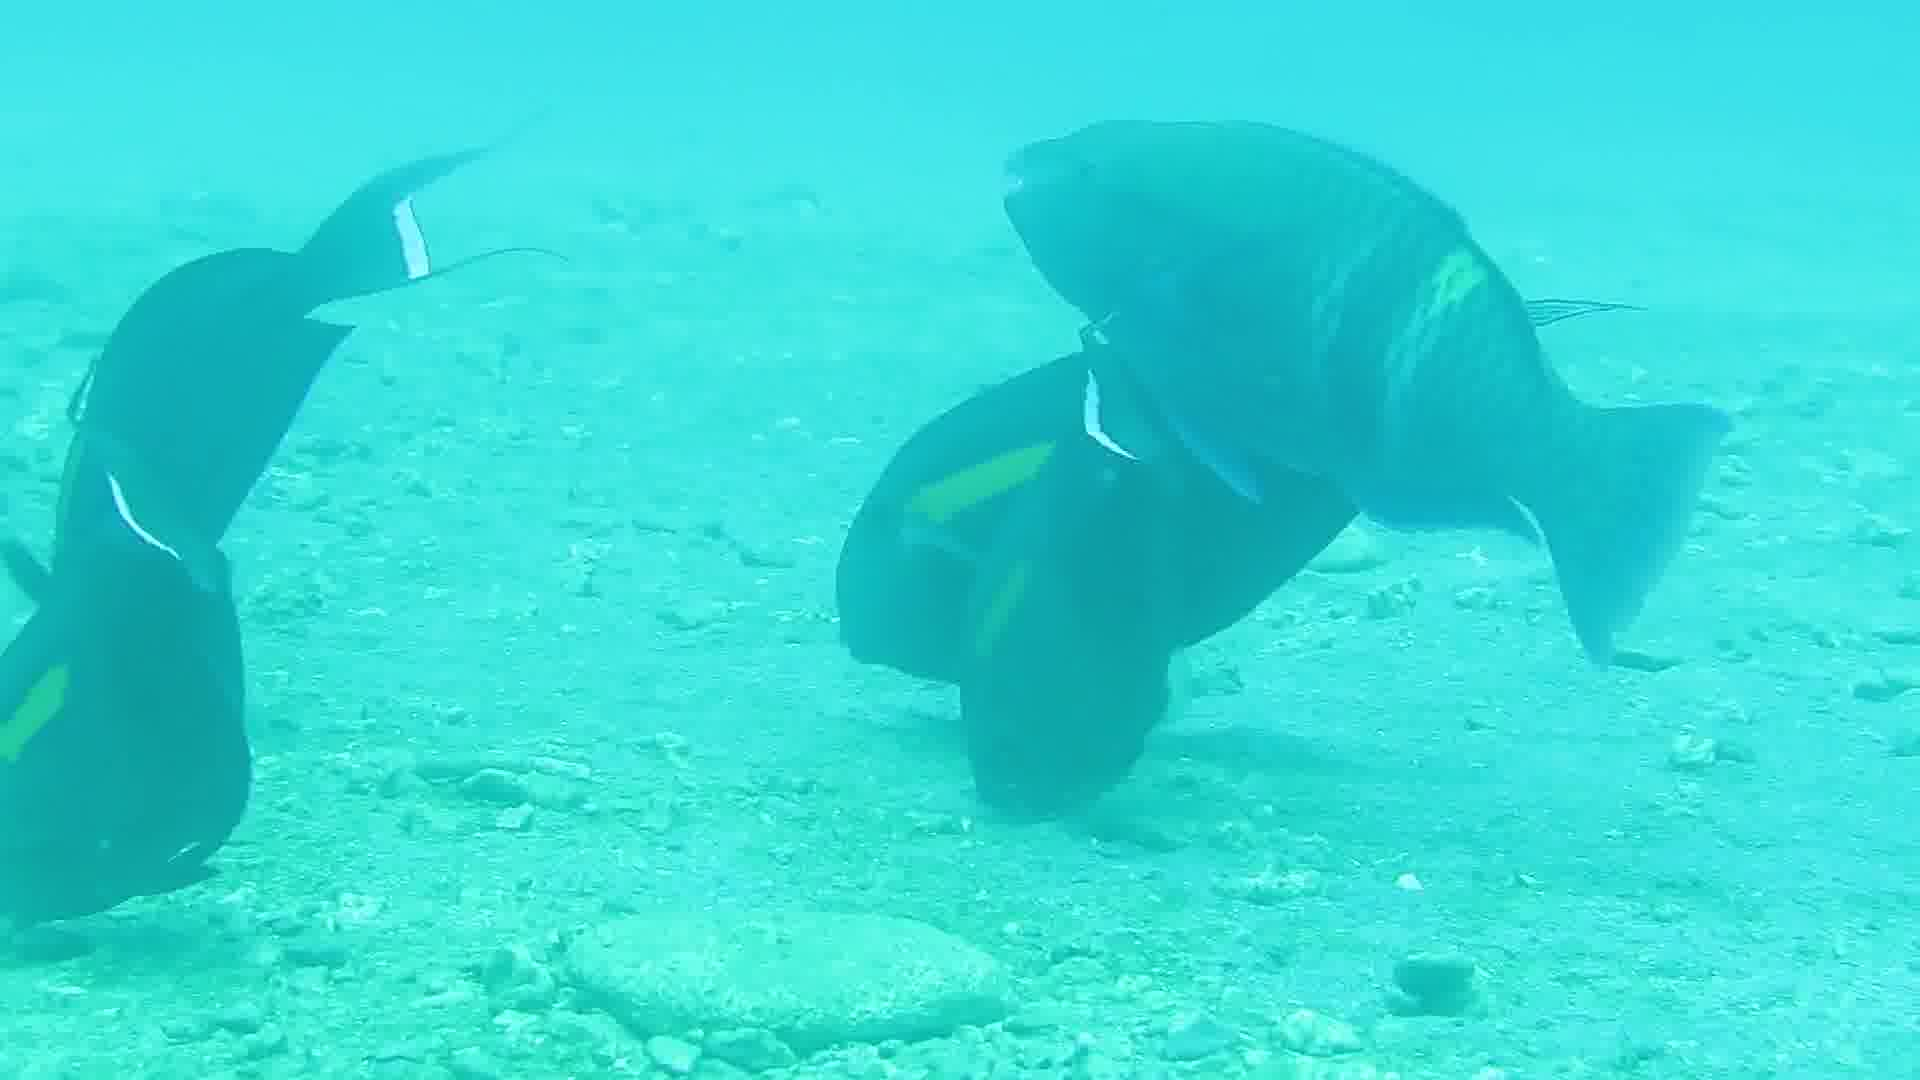Acanthurus olivaceus: (989, 102, 1730, 596), (1, 120, 524, 626), (1, 417, 524, 923), (836, 342, 1360, 847)
